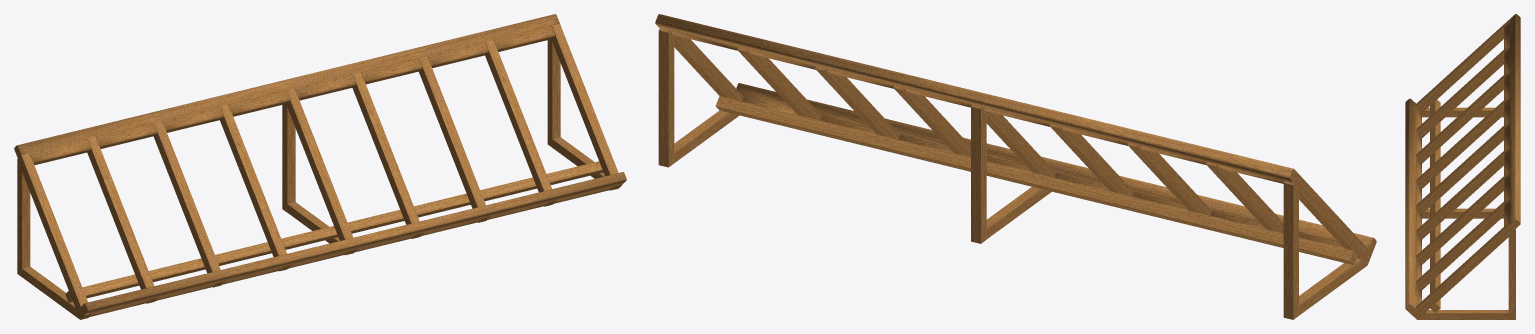
Rendered from VCKC0040.glb.
3 renders of one model, left to right at view 1: azimuth 30°, elevation 25°; view 2: azimuth 150°, elevation 25°; view 3: azimuth 270°, elevation 25°, orthographic. The views are drawn at different scales.
Parts seen in each view (by area): view 1: G-Difference.016; view 2: G-Difference.016; view 3: G-Difference.016.
Part boxes in pixels (x1,y1,x2,y2): G-Difference.016: (14, 14, 626, 319); G-Difference.016: (655, 14, 1376, 319); G-Difference.016: (1405, 14, 1520, 319).
Bounding box in the file's own units: 0.812 × 0.1849 × 0.1922.
Materials: 2 (2 with a texture image).
